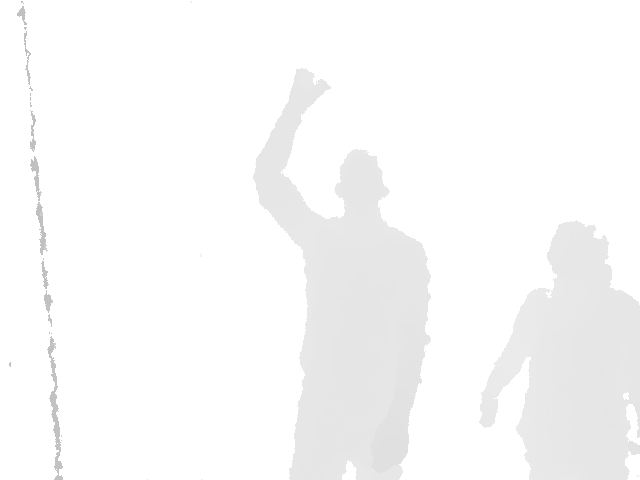hand: (287, 67, 332, 115)
head: (545, 220, 613, 286), (334, 148, 391, 216)
person: (252, 68, 433, 480), (478, 221, 640, 480)
